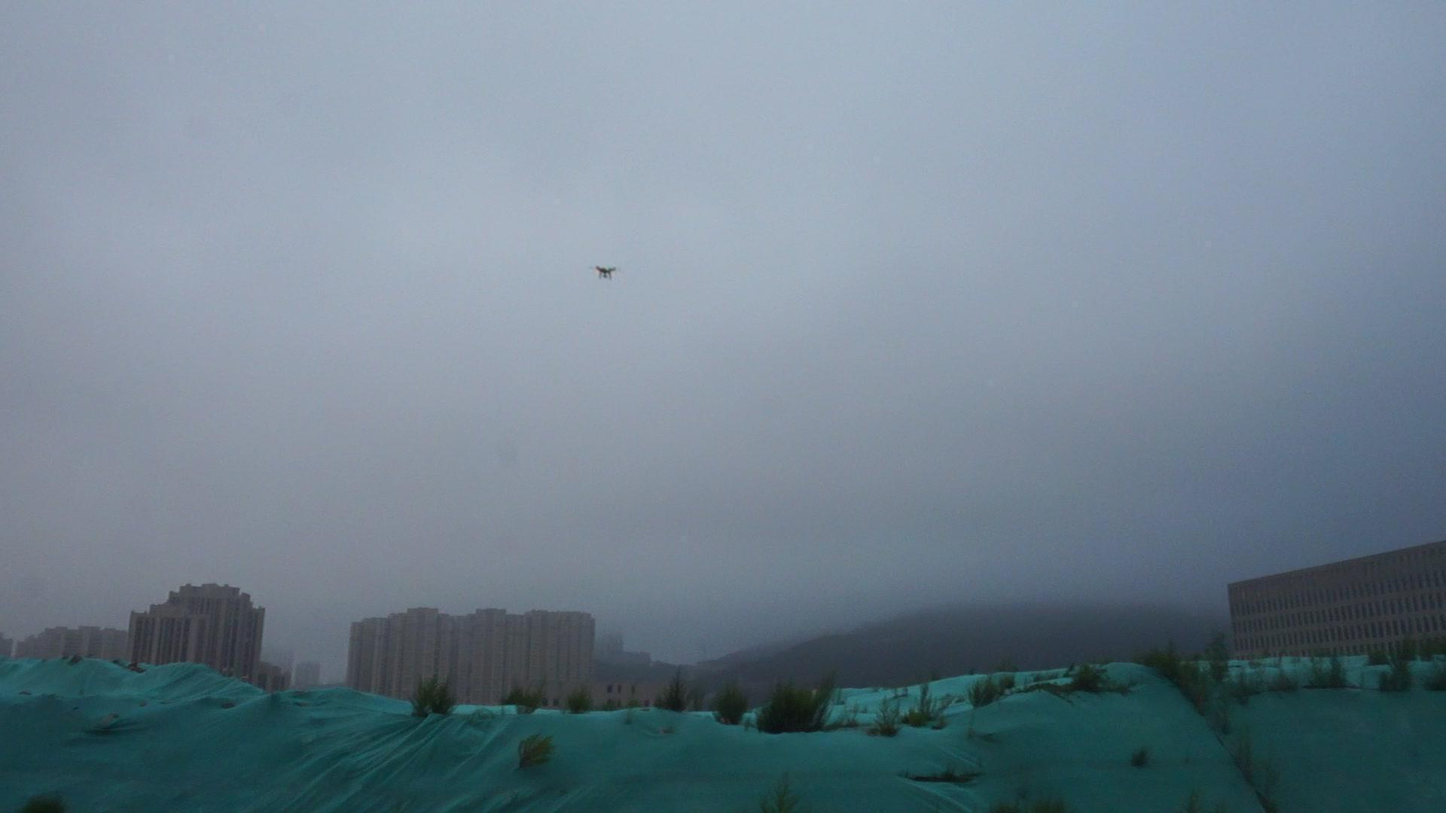UAV: (596, 266, 617, 282)
